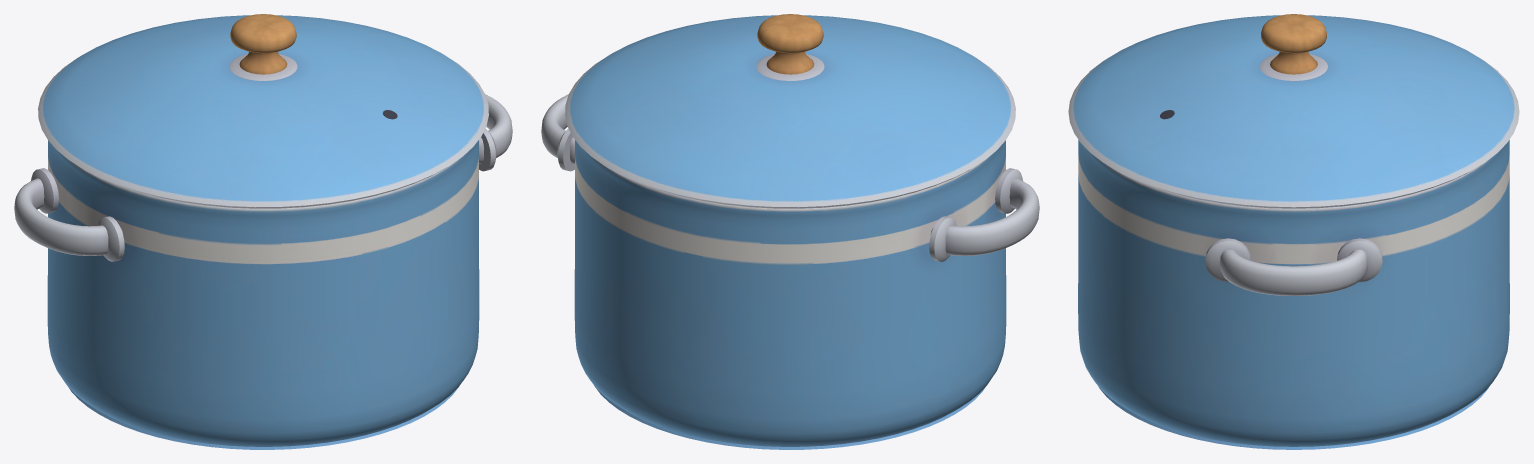
Rendered from cooking-pot.glb.
3 views of the same model, side by side, from view 1: azimuth 30°, elevation 25°; view 2: azimuth 150°, elevation 25°; view 3: azimuth 270°, elevation 25° (orthographic).
Parts seen in each view (by area): view 1: cooking-pot_body, cooking-pot_lid; view 2: cooking-pot_body, cooking-pot_lid; view 3: cooking-pot_body, cooking-pot_lid.
Part boxes in pixels (x1,y1,x2,y2): cooking-pot_body: [14, 94, 512, 449]; cooking-pot_lid: [38, 14, 488, 208]; cooking-pot_body: [541, 94, 1039, 449]; cooking-pot_lid: [565, 14, 1015, 208]; cooking-pot_body: [1078, 140, 1509, 449]; cooking-pot_lid: [1068, 14, 1519, 208].
Bounding box in the file's own units: 0.2989 × 0.2068 × 0.2468.
2 materials, 2 textured.
